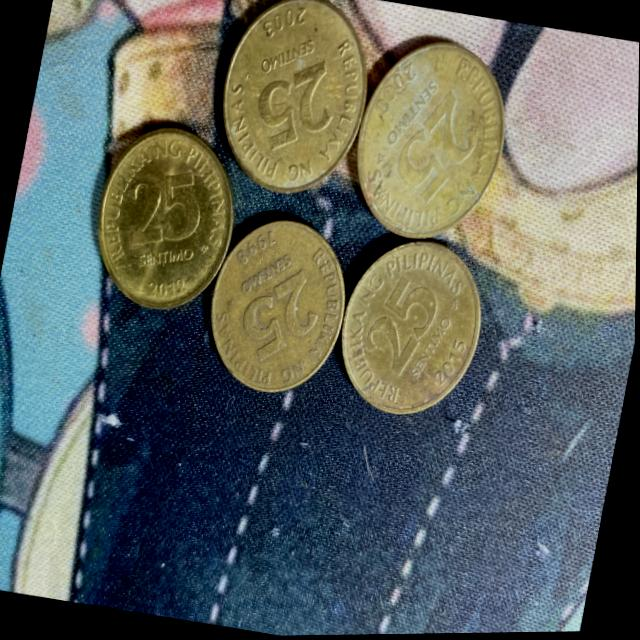25Cent_Old_Front: (388, 87, 485, 202), (117, 160, 211, 273), (233, 258, 329, 363), (248, 55, 342, 161), (361, 271, 447, 373)
